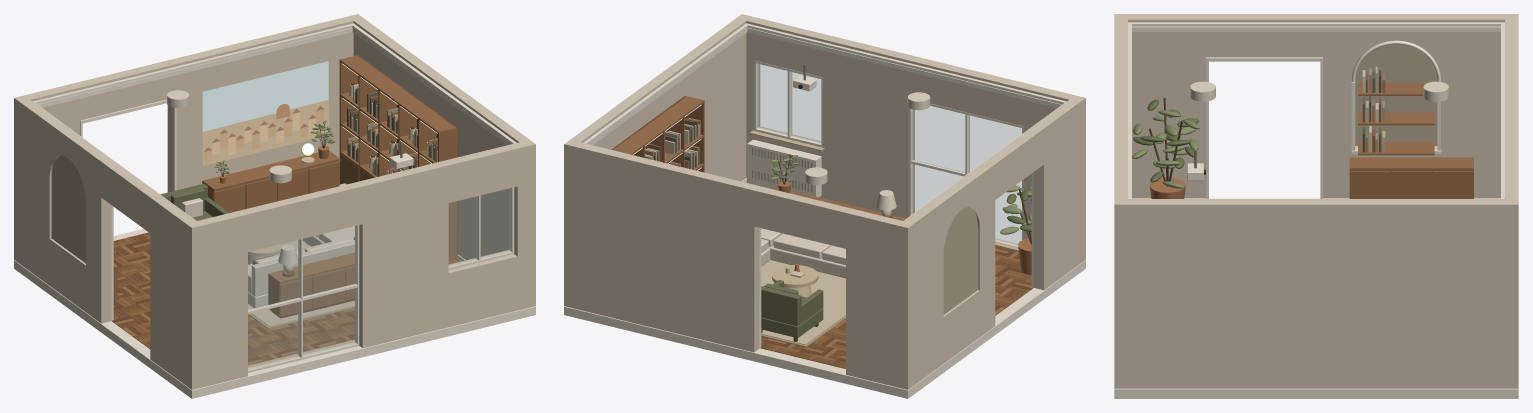
Rendered from sala-cinema.glb.
3 views of the same model, side by side, from view 1: azimuth 30°, elevation 25°; view 2: azimuth 150°, elevation 25°; view 3: azimuth 270°, elevation 25° (orthographic). The views are drawn at different scales.
Visible parts, largest first — view 1: Parede front, Parede left, Parede back, Pavimento — tacos de madeira, Estante direita — 3,00 × 0,34 × 2,20 m, Parede right, Projeção indicativa, Móvel sob a projeção, Aparador atrás do sofá — 2,30 × 0,35 m, Nicho em arco, Sofá em L — 2,70 × 1,95 m, Poltrona de linhas direitas — 0,78 × 0,78 m (+4 smaller); view 2: Parede back, Parede front, Parede left, Parede right, Pavimento — tacos de madeira, Estante direita — 3,00 × 0,34 × 2,20 m, Nicho em arco, Poltrona de linhas direitas — 0,78 × 0,78 m, Grelha existente, Sofá em L — 2,70 × 1,95 m, Tapete, Planta (×2) (+2 smaller); view 3: Parede right, Parede left, Nicho em arco, Parede front, Parede back, Arrumação sob o nicho, Pavimento — tacos de madeira, Planta, Luminárias de teto e projetor.
Boxes of the visible parts, bbox=[...] form: Parede front: bbox=[186, 140, 535, 389]; Parede left: bbox=[20, 99, 195, 385]; Parede back: bbox=[14, 14, 363, 263]; Pavimento — tacos de madeira: bbox=[14, 229, 535, 398]; Estante direita — 3,00 × 0,34 × 2,20 m: bbox=[339, 55, 458, 260]; Parede right: bbox=[351, 18, 529, 259]; Projeção indicativa: bbox=[202, 61, 328, 165]; Móvel sob a projeção: bbox=[202, 150, 340, 212]; Aparador atrás do sofá — 2,30 × 0,35 m: bbox=[268, 252, 354, 318]; Nicho em arco: bbox=[51, 155, 85, 263]; Sofá em L — 2,70 × 1,95 m: bbox=[248, 183, 354, 308]; Poltrona de linhas direitas — 0,78 × 0,78 m: bbox=[160, 183, 229, 220]; Parede back: bbox=[564, 140, 913, 389]; Parede front: bbox=[736, 14, 1085, 263]; Parede left: bbox=[904, 99, 1079, 385]; Parede right: bbox=[570, 18, 748, 181]; Pavimento — tacos de madeira: bbox=[564, 183, 1085, 398]; Estante direita — 3,00 × 0,34 × 2,20 m: bbox=[611, 95, 704, 172]; Nicho em arco: bbox=[943, 207, 977, 314]; Poltrona de linhas direitas — 0,78 × 0,78 m: bbox=[761, 279, 823, 341]; Grelha existente: bbox=[747, 139, 821, 197]; Sofá em L — 2,70 × 1,95 m: bbox=[761, 228, 845, 278]; Tapete: bbox=[761, 260, 845, 347]; Planta (×2): bbox=[770, 154, 1031, 274]; Parede right: bbox=[1128, 199, 1504, 388]; Parede left: bbox=[1128, 14, 1504, 198]; Nicho em arco: bbox=[1351, 40, 1441, 155]; Parede front: bbox=[1114, 14, 1131, 388]; Parede back: bbox=[1501, 14, 1518, 388]; Arrumação sob o nicho: bbox=[1349, 157, 1473, 198]; Pavimento — tacos de madeira: bbox=[1114, 198, 1518, 398]; Planta: bbox=[1132, 97, 1199, 198]; Luminárias de teto e projetor: bbox=[1187, 81, 1448, 180].
Size of the model in its own units: 6 by 2.85 by 5.38.
